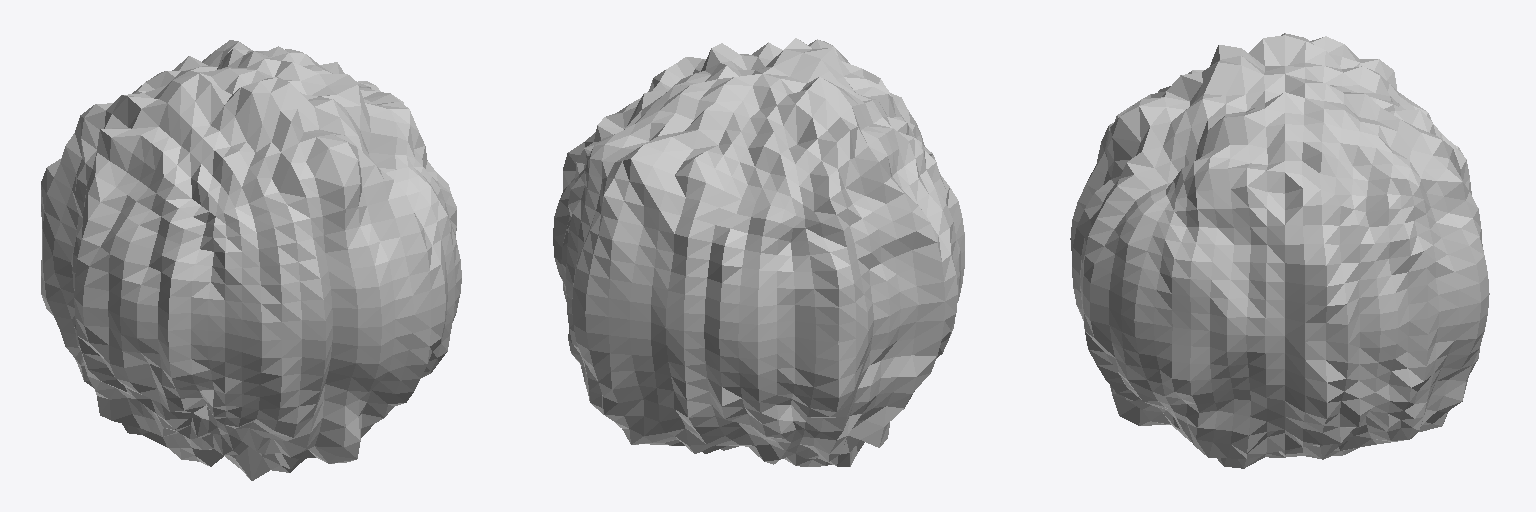
File: asteroid100.obj
The picture shows the model from 3 angles: view 1: azimuth 30°, elevation 25°; view 2: azimuth 150°, elevation 25°; view 3: azimuth 270°, elevation 25°; orthographic projection.
Parts seen in each view (by area): view 1: Cube_Cube.002; view 2: Cube_Cube.002; view 3: Cube_Cube.002.
Boxes of the visible parts, box(x1,y1,x2,y2) form: Cube_Cube.002: box(41, 40, 461, 480); Cube_Cube.002: box(553, 38, 964, 466); Cube_Cube.002: box(1070, 33, 1489, 468).
Bounding box in the file's own units: 1.76 × 1.8 × 1.76.